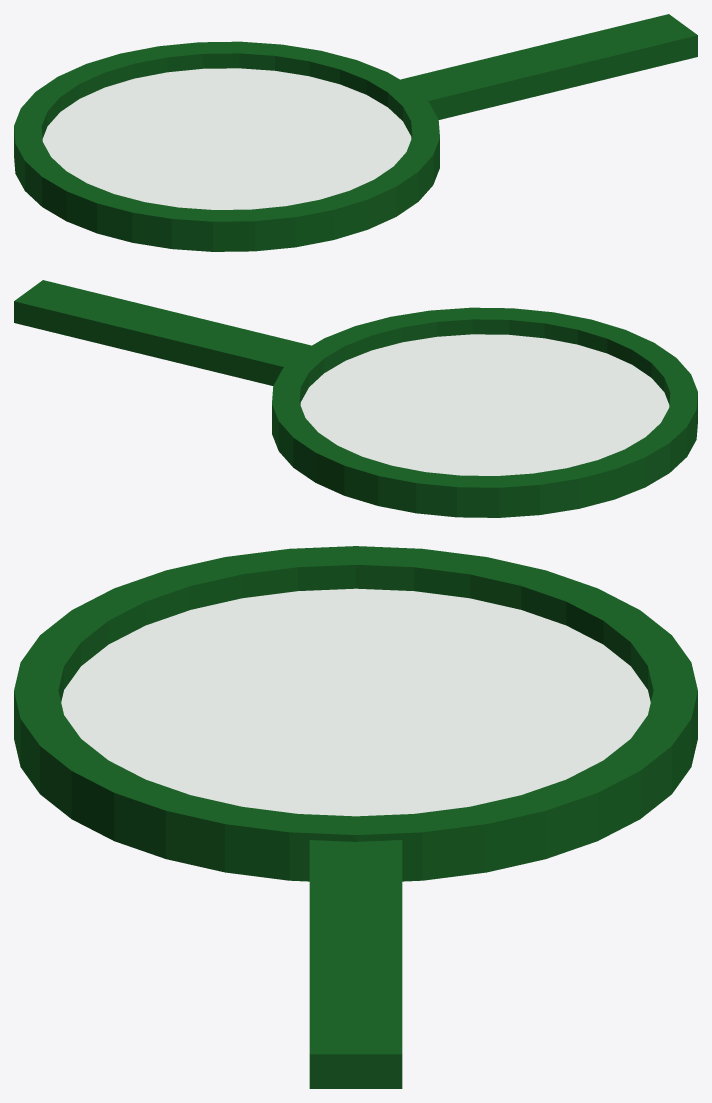
The model's file is poi.fbx.
3 views of the same model, one above another, from view 1: azimuth 30°, elevation 25°; view 2: azimuth 150°, elevation 25°; view 3: azimuth 270°, elevation 25° (orthographic). The views are drawn at different scales.
Parts seen in each view (by area): view 1: 円柱.001, 円柱, 立方体; view 2: 円柱.001, 円柱, 立方体; view 3: 円柱.001, 円柱, 立方体.
Boxes of the visible parts, bbox=[...] form: 円柱.001: bbox=[42, 68, 411, 209]; 円柱: bbox=[14, 41, 439, 251]; 立方体: bbox=[400, 14, 697, 119]; 円柱.001: bbox=[300, 334, 669, 475]; 円柱: bbox=[272, 307, 697, 517]; 立方体: bbox=[14, 280, 311, 385]; 円柱.001: bbox=[61, 588, 650, 816]; 円柱: bbox=[14, 546, 697, 881]; 立方体: bbox=[309, 840, 402, 1088].
Size of the model in its own units: 347 by 15.62 by 200.
